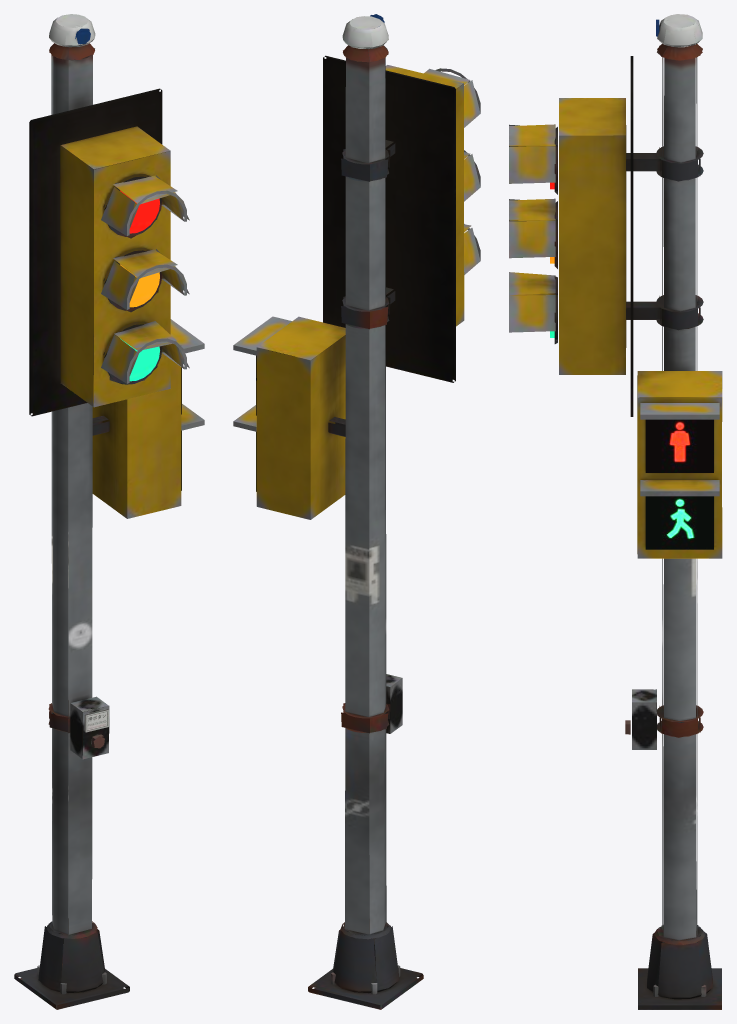
The model's file is traffic_light_pole_lod1.glb.
The picture shows the model from 3 angles, left to right: view 1: azimuth 30°, elevation 25°; view 2: azimuth 150°, elevation 25°; view 3: azimuth 270°, elevation 25°; orthographic projection.
Parts seen in each view (by area): view 1: traffic_light_pole, Lamp_A_Green, Lamp_A_Red, Lamp_A_Amber; view 2: traffic_light_pole; view 3: traffic_light_pole, Ped_A_Walk, Ped_A_Stop.
Boxes of the visible parts, x1=… form: traffic_light_pole: x1=14, y1=14, x2=204, y2=1009; Lamp_A_Green: x1=120, y1=338, x2=159, y2=381; Lamp_A_Red: x1=120, y1=190, x2=159, y2=233; Lamp_A_Amber: x1=120, y1=264, x2=159, y2=307; traffic_light_pole: x1=233, y1=14, x2=480, y2=1009; traffic_light_pole: x1=509, y1=14, x2=722, y2=1009; Ped_A_Walk: x1=645, y1=496, x2=713, y2=549; Ped_A_Stop: x1=645, y1=419, x2=713, y2=472.
Size of what is drawn, in the model's own units: 0.76 by 3.92 by 0.7825.
Materials: 1 (1 with a texture image).
